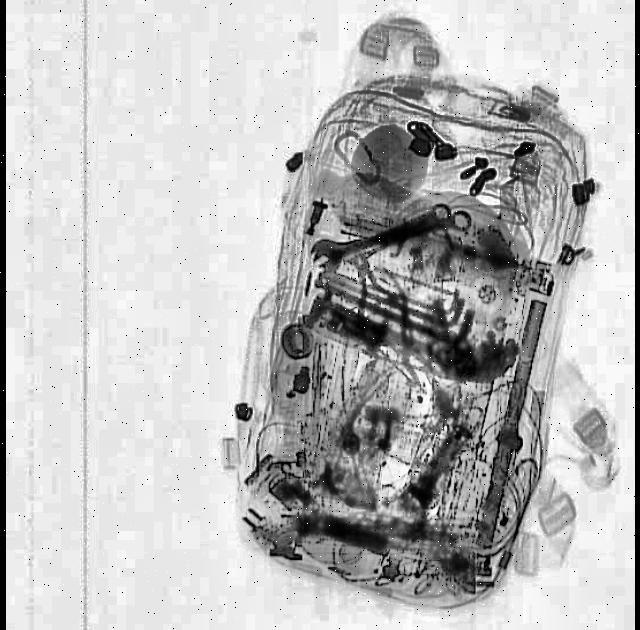Wrench: (308, 194, 472, 276), (307, 190, 451, 272)
